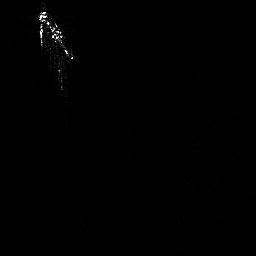ship: (34, 5, 79, 65)
